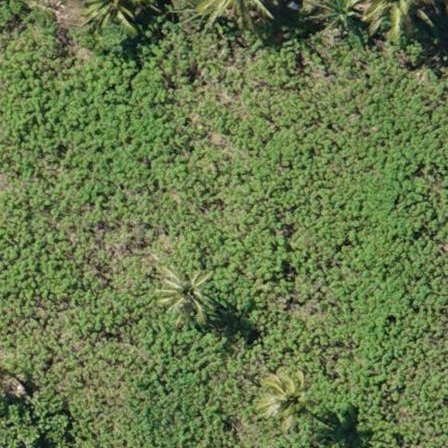palm_tree: (153, 257, 212, 320), (257, 368, 311, 426)
